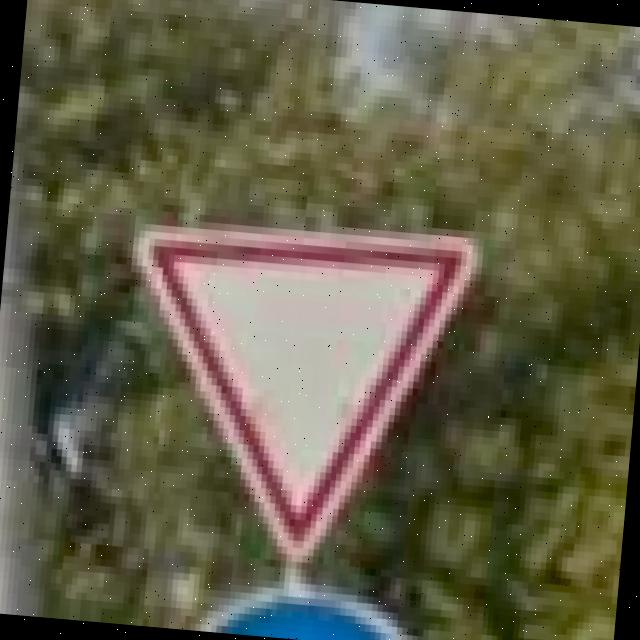Ustap pierwszenstwa: (106, 209, 479, 582)
